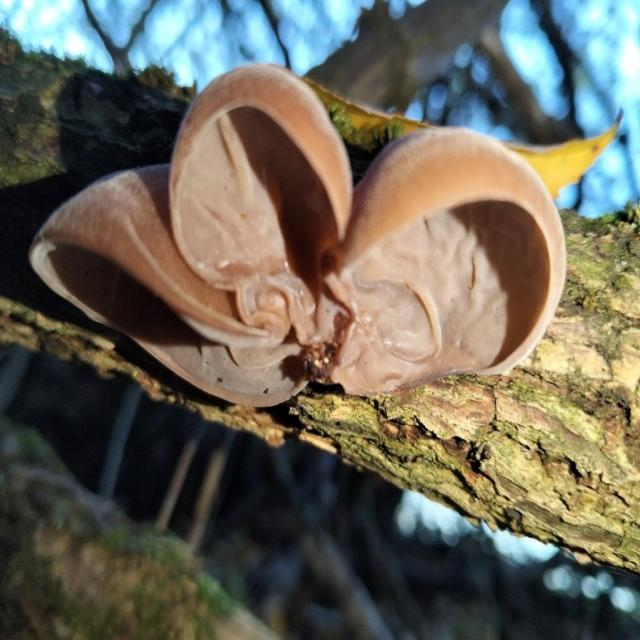Matang: (25, 158, 308, 411), (323, 123, 570, 403), (167, 58, 356, 368)
